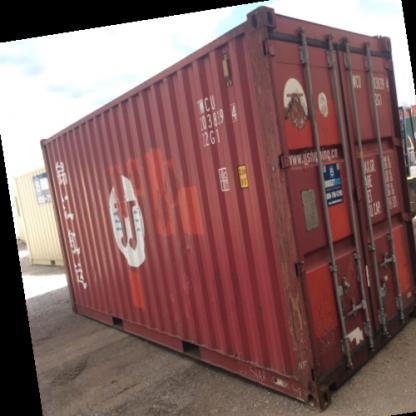Damage: (276, 262, 320, 383), (256, 146, 301, 260), (248, 9, 279, 149), (332, 255, 362, 298), (318, 325, 347, 360), (338, 314, 366, 341)
